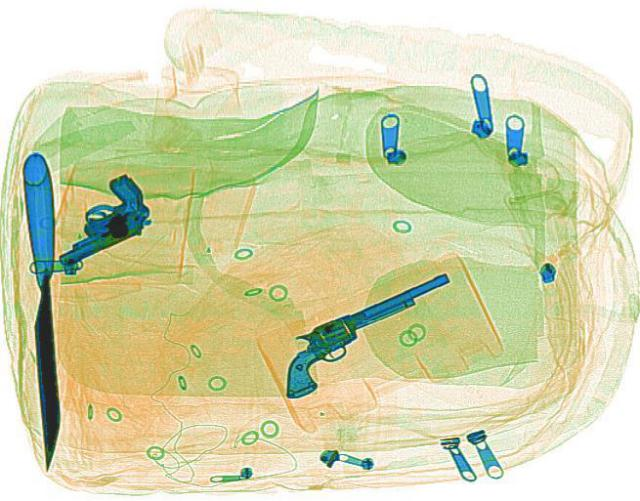Gun: (248, 269, 482, 400), (21, 172, 169, 267)
Knife: (21, 150, 60, 469)
